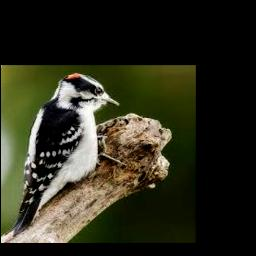Woodpecker: (5, 72, 128, 237)
